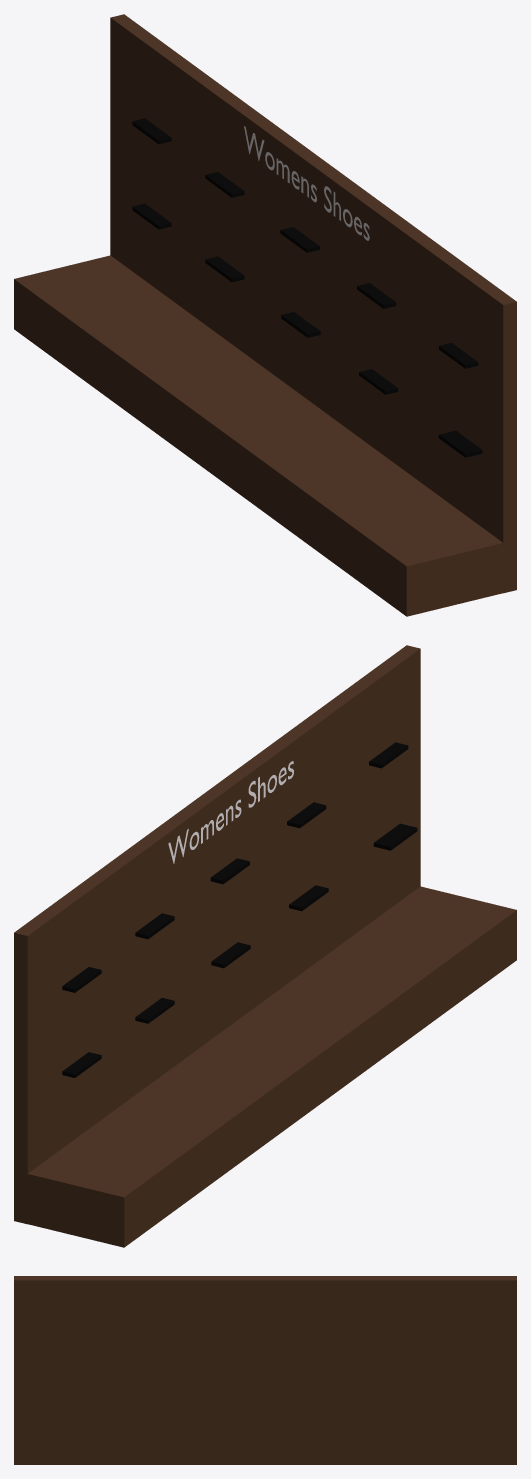
The model's file is WomensSection.glb.
3 renders of one model, top to bottom at view 1: azimuth 30°, elevation 25°; view 2: azimuth 150°, elevation 25°; view 3: azimuth 270°, elevation 25°, orthographic. The views are drawn at different scales.
Visible parts, largest first — view 1: Cube.005, Cube.004, Women; view 2: Cube.005, Cube.004, Women; view 3: Cube.005.
Part boxes in pixels (x1=…): Cube.005: x1=110, y1=14, x2=516, y2=593; Cube.004: x1=14, y1=255, x2=507, y2=616; Women: x1=244, y1=126, x2=369, y2=240; Cube.005: x1=14, y1=645, x2=420, y2=1223; Cube.004: x1=23, y1=886, x2=516, y2=1247; Women: x1=168, y1=761, x2=293, y2=863; Cube.005: x1=14, y1=1276, x2=516, y2=1464.
Bounding box in the file's own units: 3.42 × 8.55 × 21.11.
